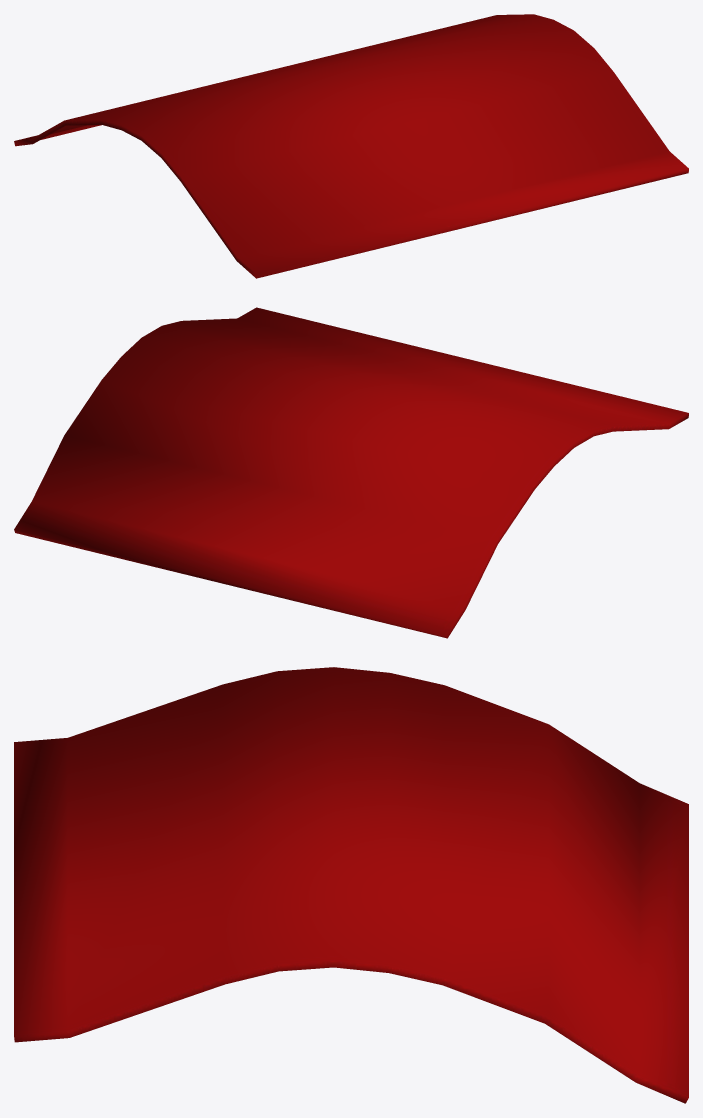
File: Boulette_Red.fbx
3 views of the same model, one above another, from view 1: azimuth 30°, elevation 25°; view 2: azimuth 150°, elevation 25°; view 3: azimuth 270°, elevation 25° (orthographic). The views are drawn at different scales.
Visible parts, largest first — view 1: paper_red_2; view 2: paper_red_2; view 3: paper_red_2.
Boxes of the visible parts, x1,y1,x2,y2 form: paper_red_2: [14, 14, 688, 278]; paper_red_2: [14, 307, 688, 638]; paper_red_2: [14, 667, 688, 1103].
Size of the model in its own units: 220 by 50 by 214.
Materials: 1 (1 with a texture image).
